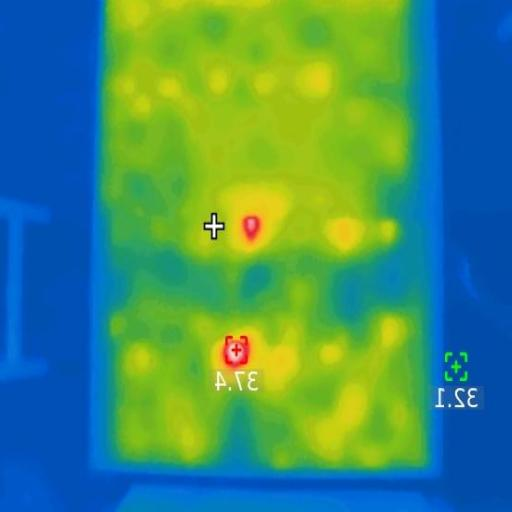hotspot: (222, 335, 250, 368), (240, 212, 264, 245)
